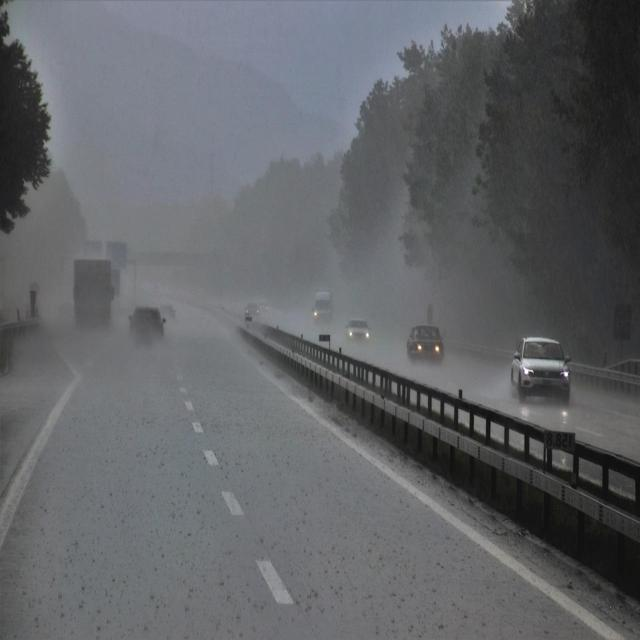Car: (510, 333, 572, 405), (128, 304, 167, 349), (407, 322, 444, 360), (344, 319, 371, 344), (245, 301, 259, 319), (258, 300, 269, 314)
Truck: (72, 256, 115, 332), (311, 289, 334, 325)
